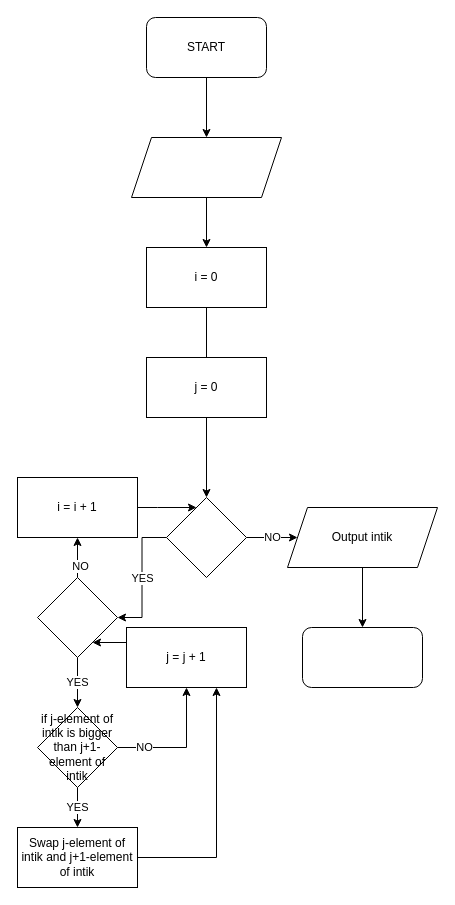
The diagram is 455 pixels wide and 905 high, and some of its shapes have lost their labels. The centre of each missing label's shape, as x and y in pixels:
END: the point at 362,657
if i is smaller than size of intik: the point at 206,537
if j is smaller than size of intik - 1 - i: the point at 77,617
Input value into intik: the point at 206,167
